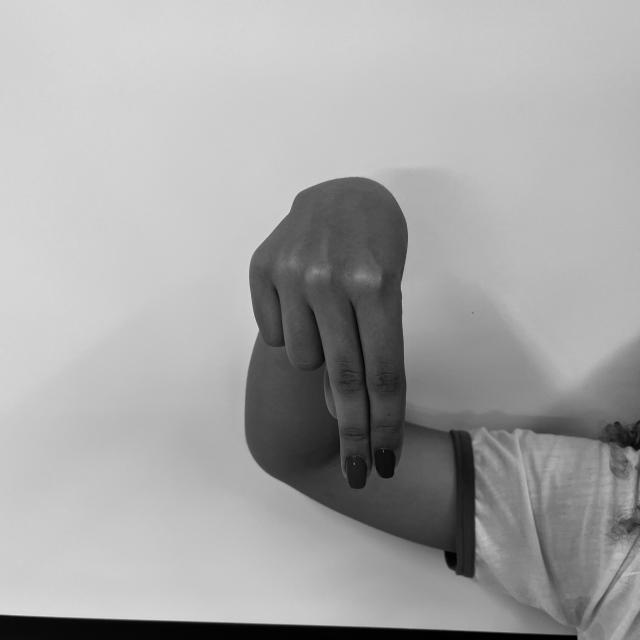Letra N: (239, 173, 415, 493)
